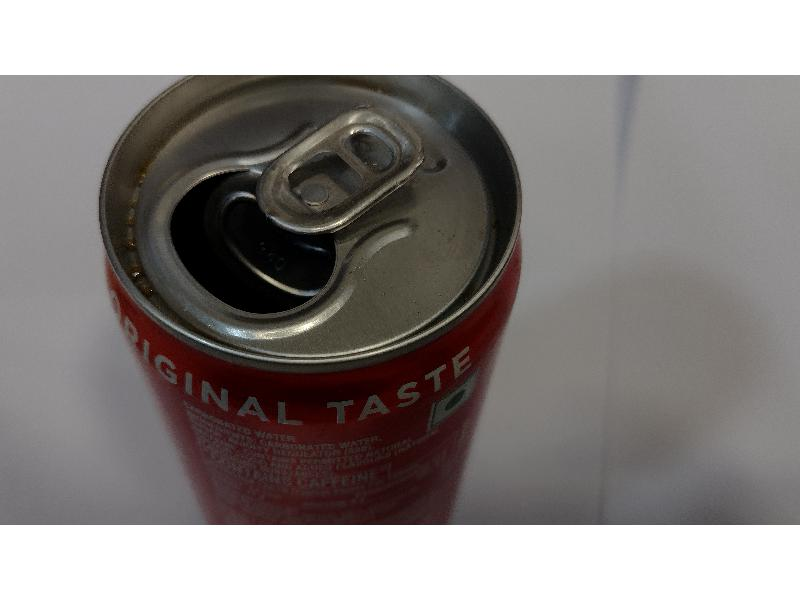can: (87, 73, 536, 519)
